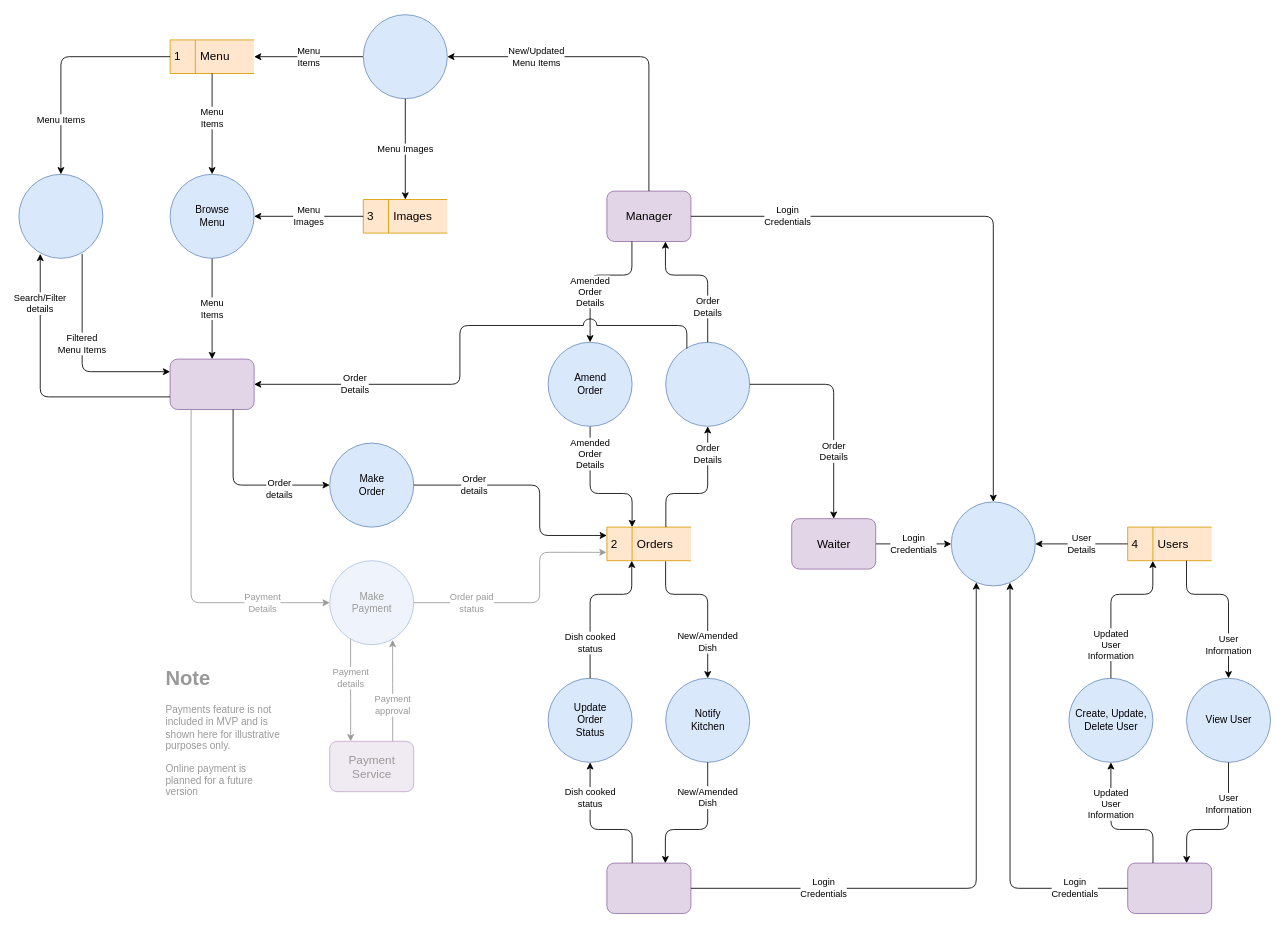
The diagram is 1286 pixels wide and 928 high, and some of its shapes have lost their labels. Here are the shapes that lost their labels. From the top down, the centre of each, then its label:
At (404,56): "Amend Menu".
At (60,215): "Search or Filter Menu".
At (211,384): "Customer".
At (707,383): "View Order".
At (992,543): "Login".
At (648,888): "Chef".
At (1169,888): "Administrator".
